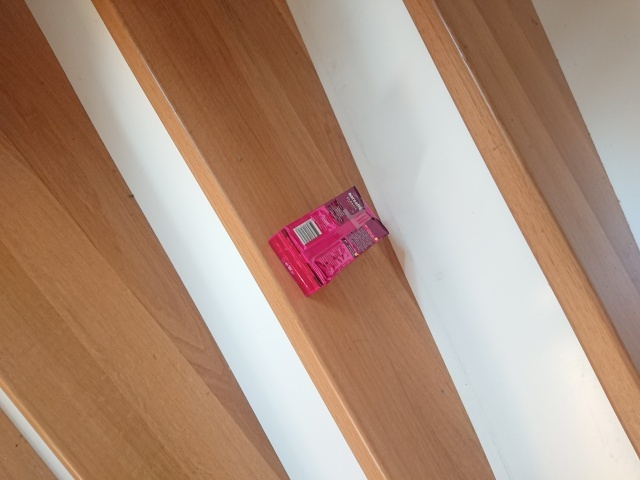Barcaffe Classic Original 225g: (266, 184, 390, 299)
